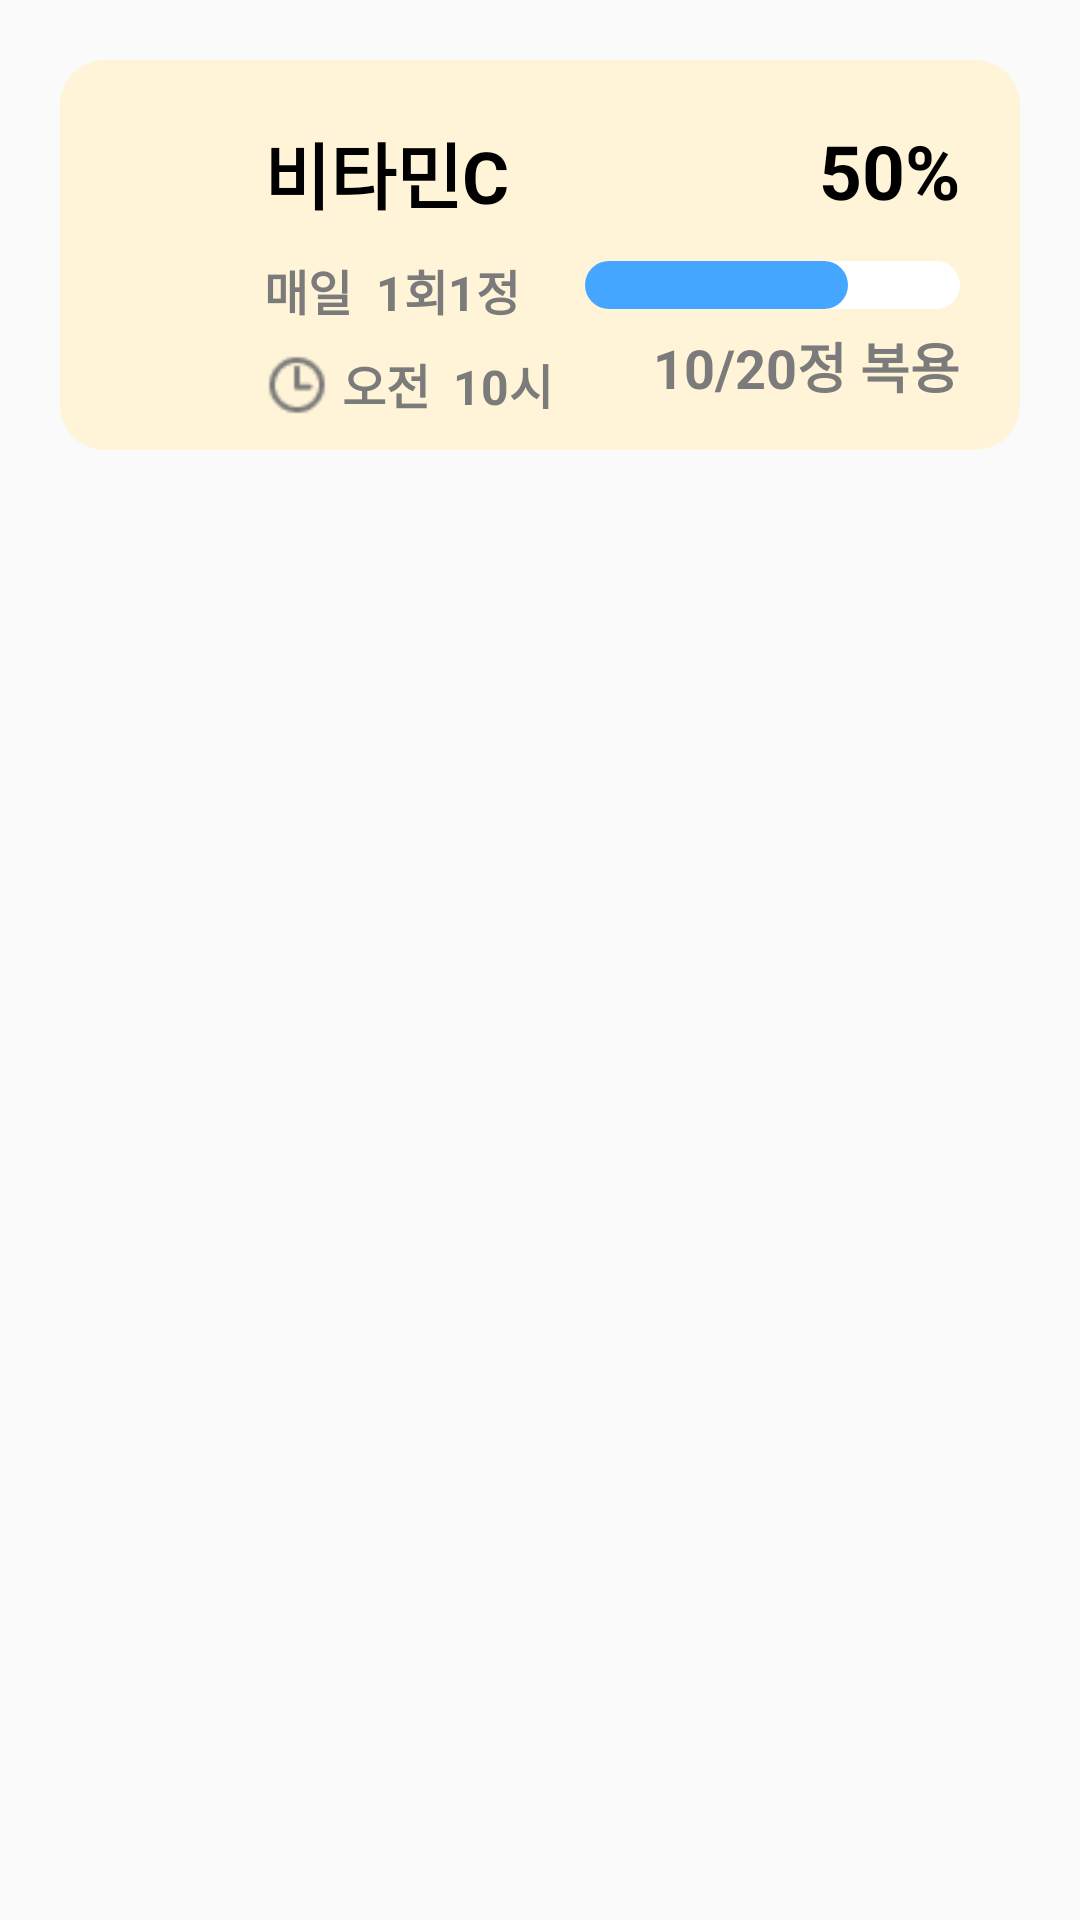

Icons on this 1080*1920 Android screen, each with its box as (x1, y1, x2, y2):
clock: (269, 357, 325, 413)
